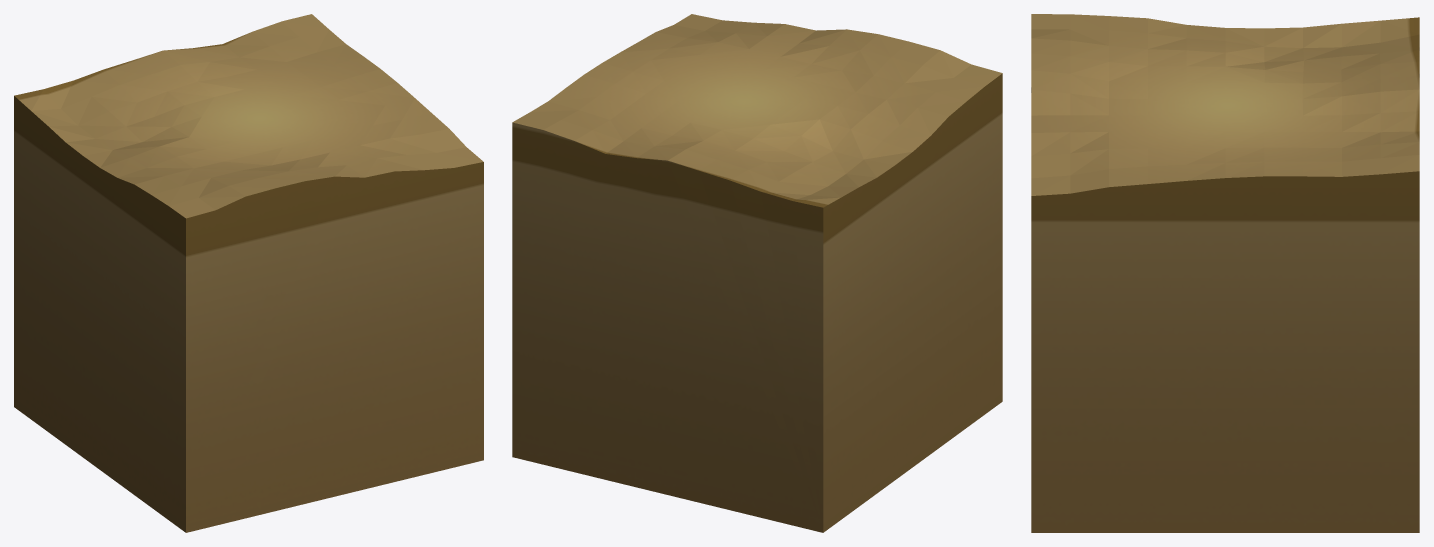
Rendered from Environmental block 2.fbx.
3 renders of one model, left to right at view 1: azimuth 30°, elevation 25°; view 2: azimuth 150°, elevation 25°; view 3: azimuth 270°, elevation 25°, orthographic. The views are drawn at different scales.
Parts seen in each view (by area): view 1: Environmental_block_2; view 2: Environmental_block_2; view 3: Environmental_block_2.
Boxes of the visible parts, bbox=[...] form: Environmental_block_2: bbox=[14, 14, 483, 532]; Environmental_block_2: bbox=[512, 14, 1002, 532]; Environmental_block_2: bbox=[1031, 14, 1419, 532].
Size of the model in its own units: 100 by 104 by 100.
Materials: 1 (1 with a texture image).
